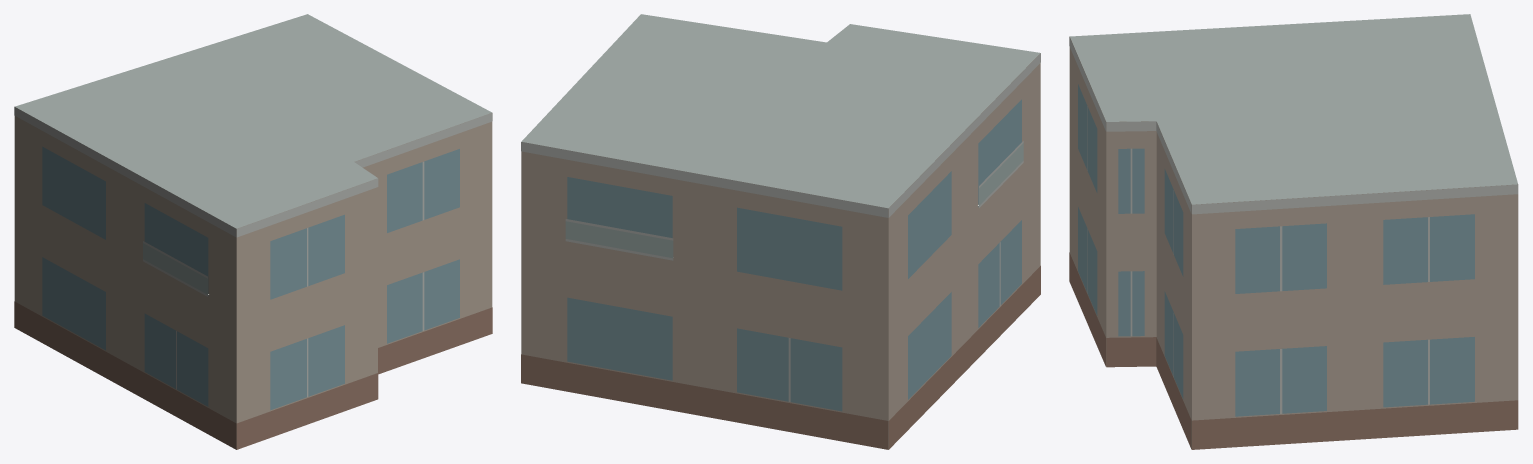
File: survey-upis-32677208.glb
3 renders of one model, left to right at view 1: azimuth 30°, elevation 25°; view 2: azimuth 150°, elevation 25°; view 3: azimuth 270°, elevation 25°, orthographic. The views are drawn at different scales.
Parts seen in each view (by area): view 1: survey-upis-32677208.tmp; view 2: survey-upis-32677208.tmp; view 3: survey-upis-32677208.tmp.
Boxes of the visible parts, x1,y1,x2,y2 form: survey-upis-32677208.tmp: (14,14,492,449); survey-upis-32677208.tmp: (521,14,1040,449); survey-upis-32677208.tmp: (1069,14,1518,449).
Bounding box in the file's own units: 10.18 × 6.1 × 10.13.
